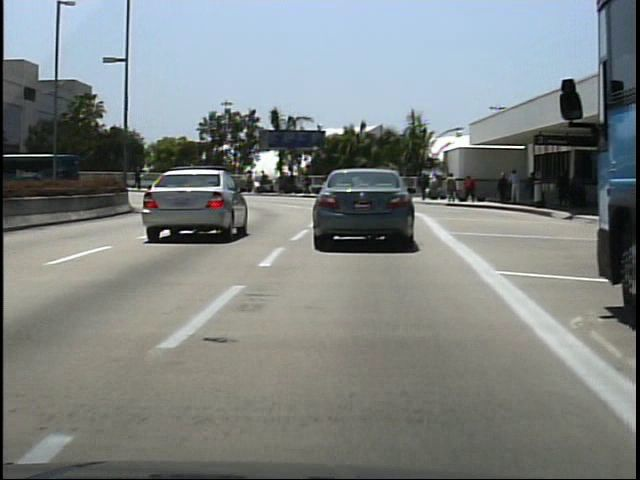person: (554, 164, 572, 210), (507, 167, 523, 207), (462, 171, 479, 206), (524, 169, 540, 205), (495, 170, 511, 205), (446, 169, 460, 203), (132, 162, 147, 193), (419, 171, 433, 202), (201, 169, 217, 194)
